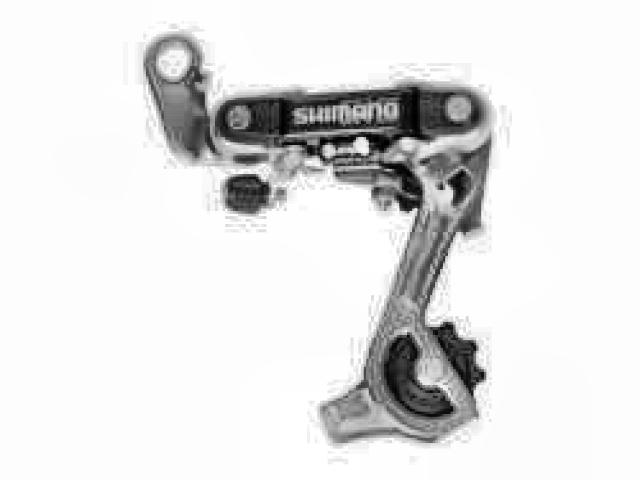rear_derailleur: (137, 31, 496, 451)
